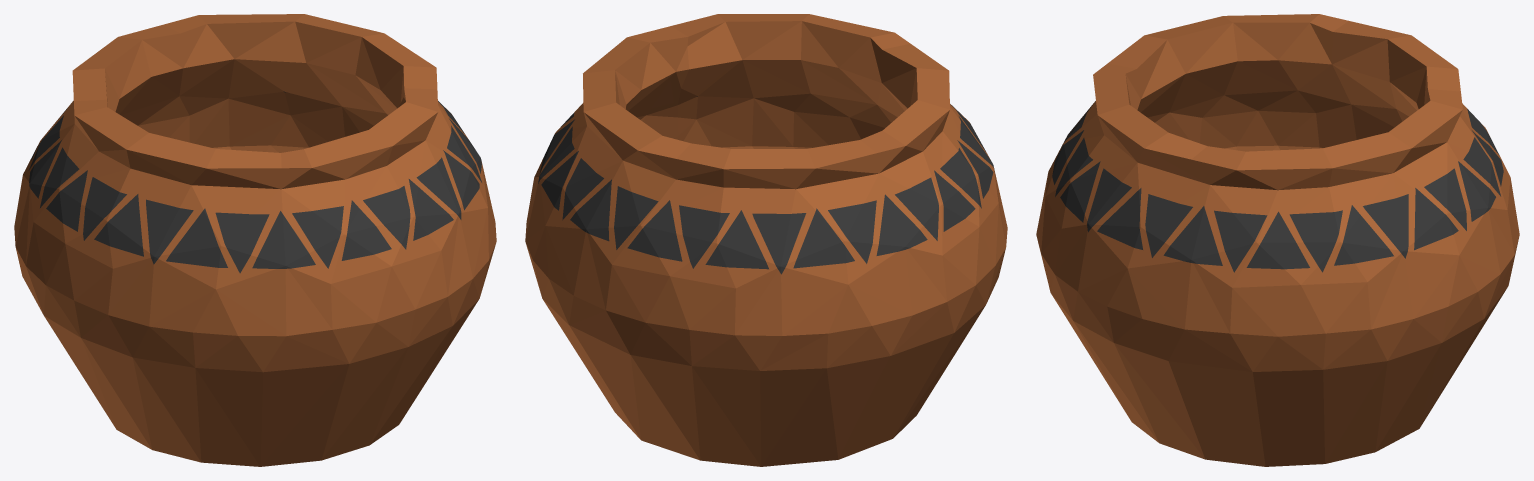
Rendered from Pottery 19_1b.fbx.
3 renders of one model, left to right at view 1: azimuth 30°, elevation 25°; view 2: azimuth 150°, elevation 25°; view 3: azimuth 270°, elevation 25°, orthographic.
Visible parts, largest first — view 1: Pottery 19_1b.003, Pottery 19_1b.004, Pottery 19_1b.001, Pottery 19_1b, Pottery 19_1b.002, Pottery 19_1b.005; view 2: Pottery 19_1b.002, Pottery 19_1b, Pottery 19_1b.003, Pottery 19_1b.004, Pottery 19_1b.001, Pottery 19_1b.005; view 3: Pottery 19_1b.005, Pottery 19_1b.001, Pottery 19_1b.003, Pottery 19_1b.004, Pottery 19_1b, Pottery 19_1b.002.
Part boxes in pixels (<box>): Pottery 19_1b.003: <box>14,99,285,413</box>; Pottery 19_1b.004: <box>238,88,496,390</box>; Pottery 19_1b.001: <box>163,14,385,152</box>; Pottery 19_1b: <box>79,300,478,466</box>; Pottery 19_1b.002: <box>40,25,189,142</box>; Pottery 19_1b.005: <box>355,33,496,239</box>; Pottery 19_1b.002: <box>606,140,878,370</box>; Pottery 19_1b: <box>543,285,950,466</box>; Pottery 19_1b.003: <box>844,43,1007,383</box>; Pottery 19_1b.004: <box>671,14,909,148</box>; Pottery 19_1b.001: <box>525,70,690,324</box>; Pottery 19_1b.005: <box>583,26,689,139</box>; Pottery 19_1b.005: <box>1142,146,1387,426</box>; Pottery 19_1b.001: <box>1323,89,1514,360</box>; Pottery 19_1b.003: <box>1108,14,1402,151</box>; Pottery 19_1b.004: <box>1036,63,1207,342</box>; Pottery 19_1b: <box>1077,255,1514,466</box>; Pottery 19_1b.002: <box>1332,21,1519,278</box>.
Bounding box in the file's own units: 72.77 × 52.6 × 72.77.
